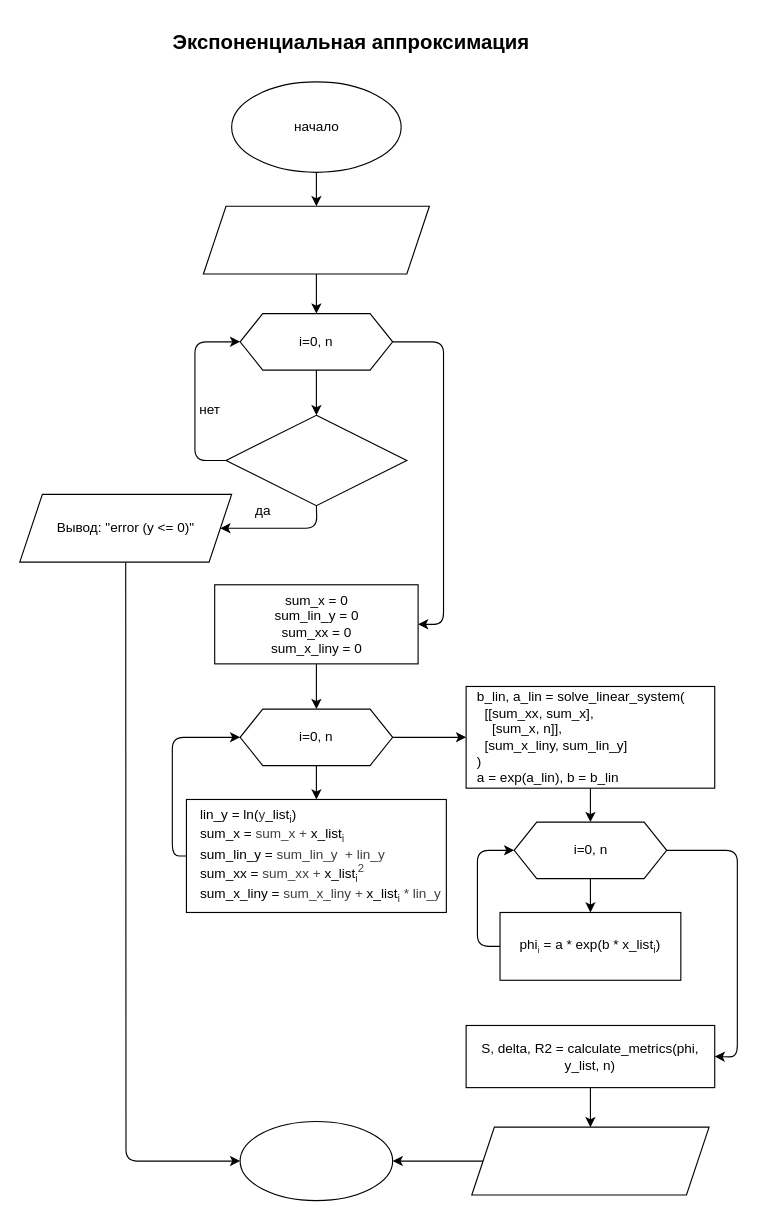
This 766x1220 diagram has some shape labels left out. Here are the shapes that lost their labels. From the top down, the centre of each, then its label:
At (315,239): "n, x_list, y_list".
At (316,460): "y _list i <= 0".
At (316,1160): "конец".
At (590,1160): "Вывод: [a, b], phi, S, delta, R2".
